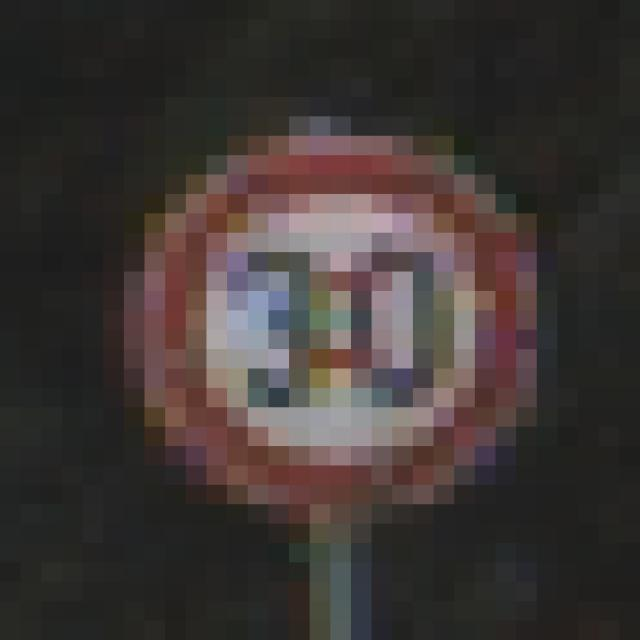Speed Limit -30-: (114, 87, 526, 514)
